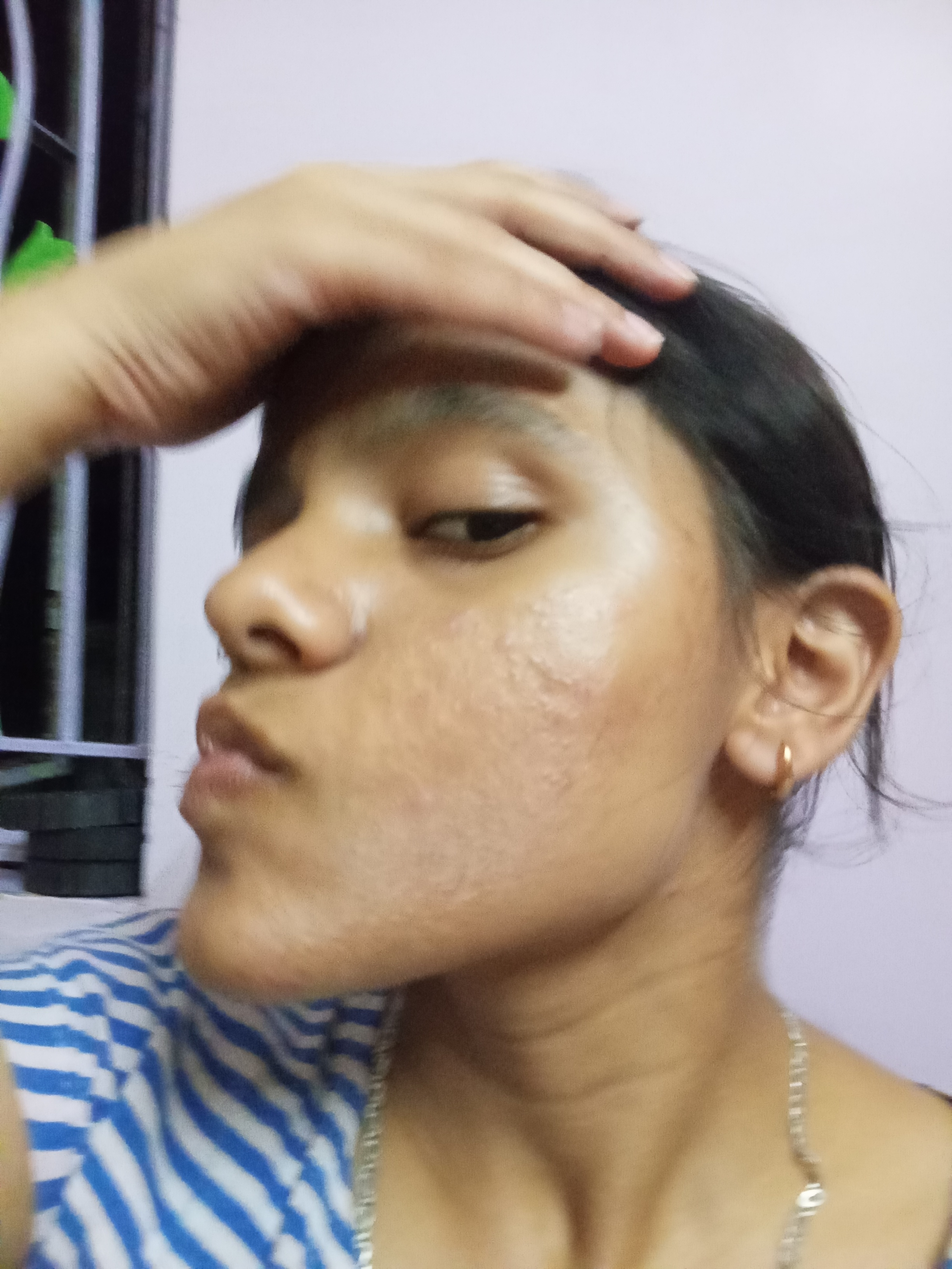closed_comedone: (543, 665, 579, 691)
macrocomedone: (489, 631, 527, 676)
